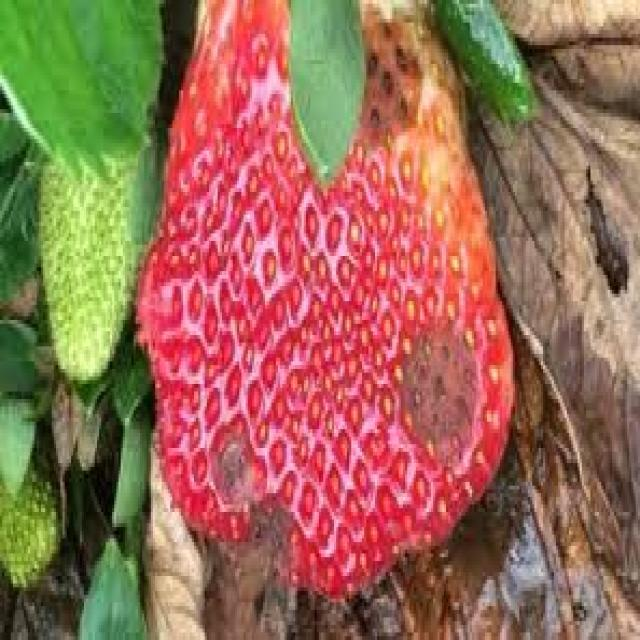Mancha negra Antracnosis: (165, 5, 544, 594)
